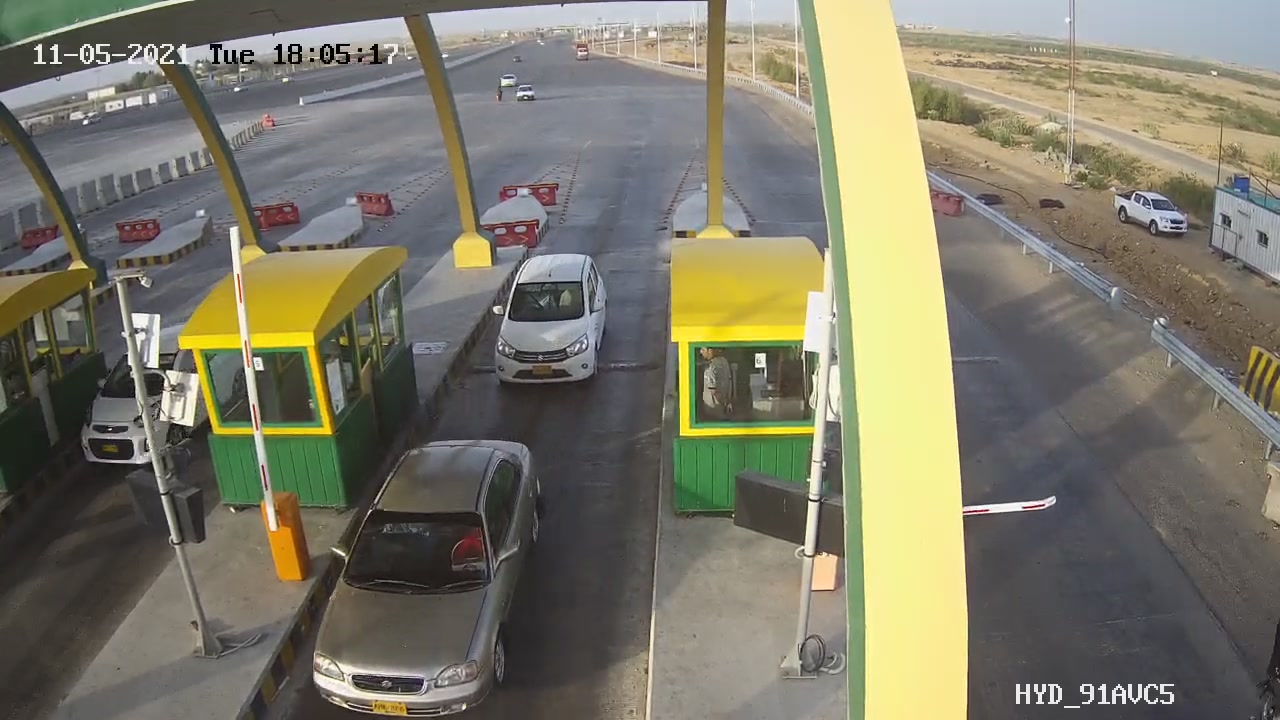F1: (485, 246, 638, 409)
